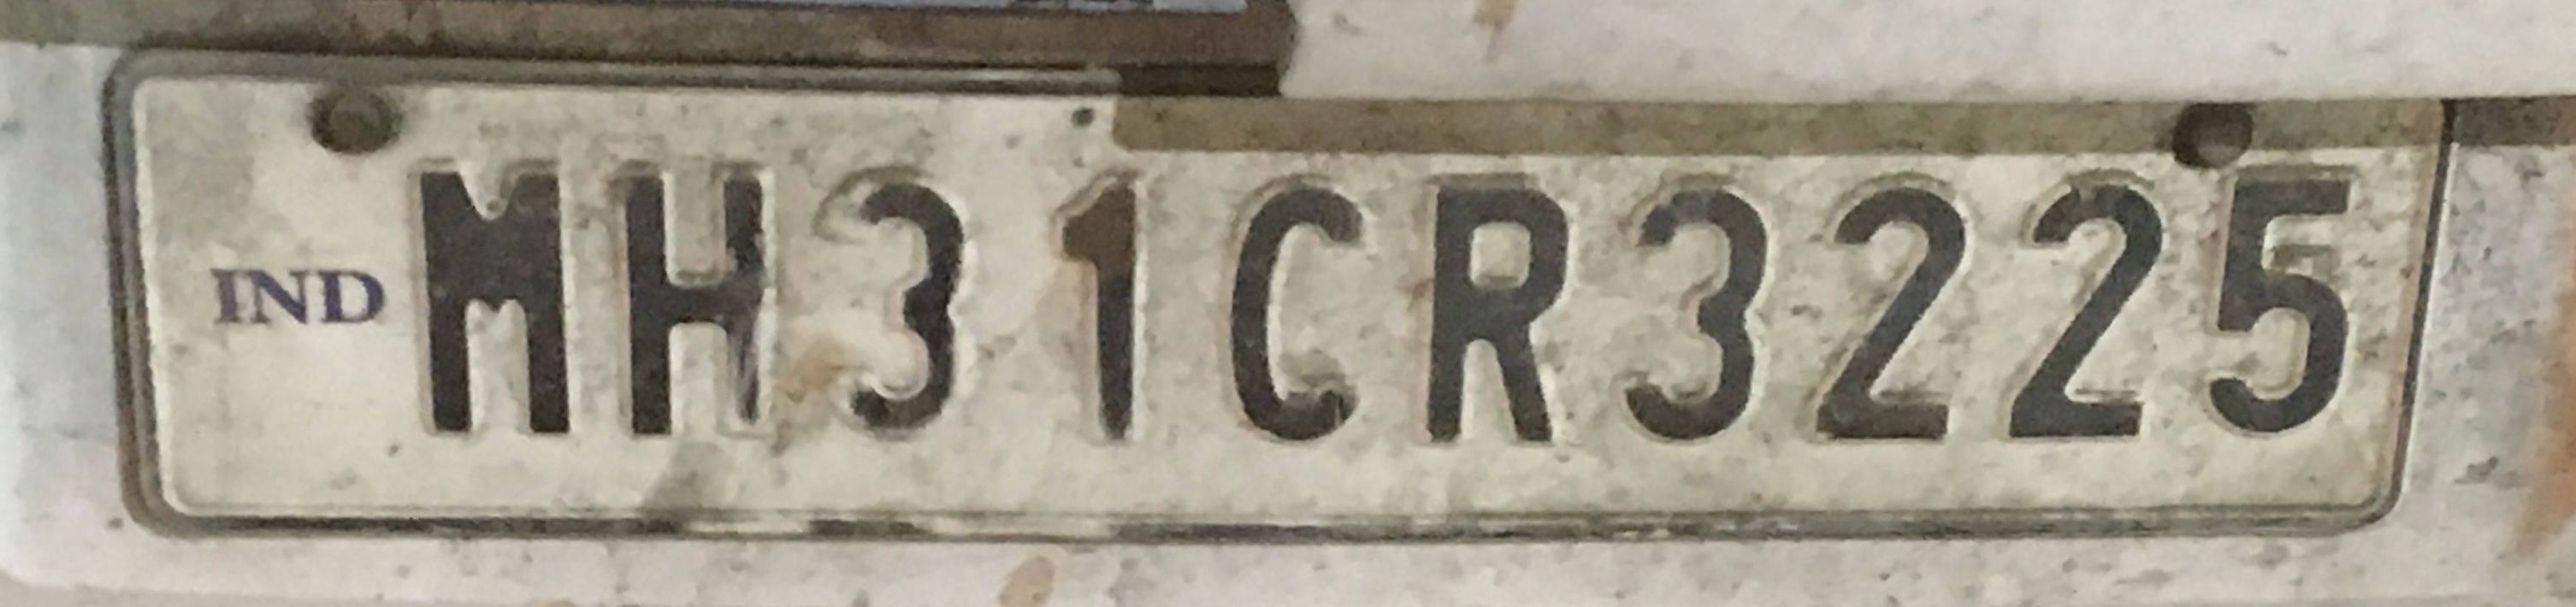numberplate: (105, 35, 2459, 551)
